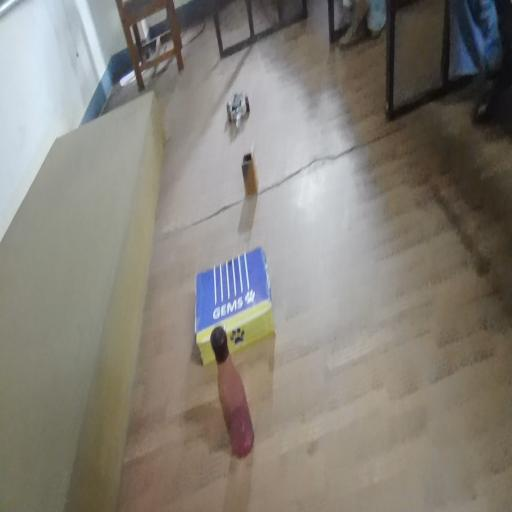Bottle: (210, 323, 263, 482)
car: (226, 77, 250, 135)
